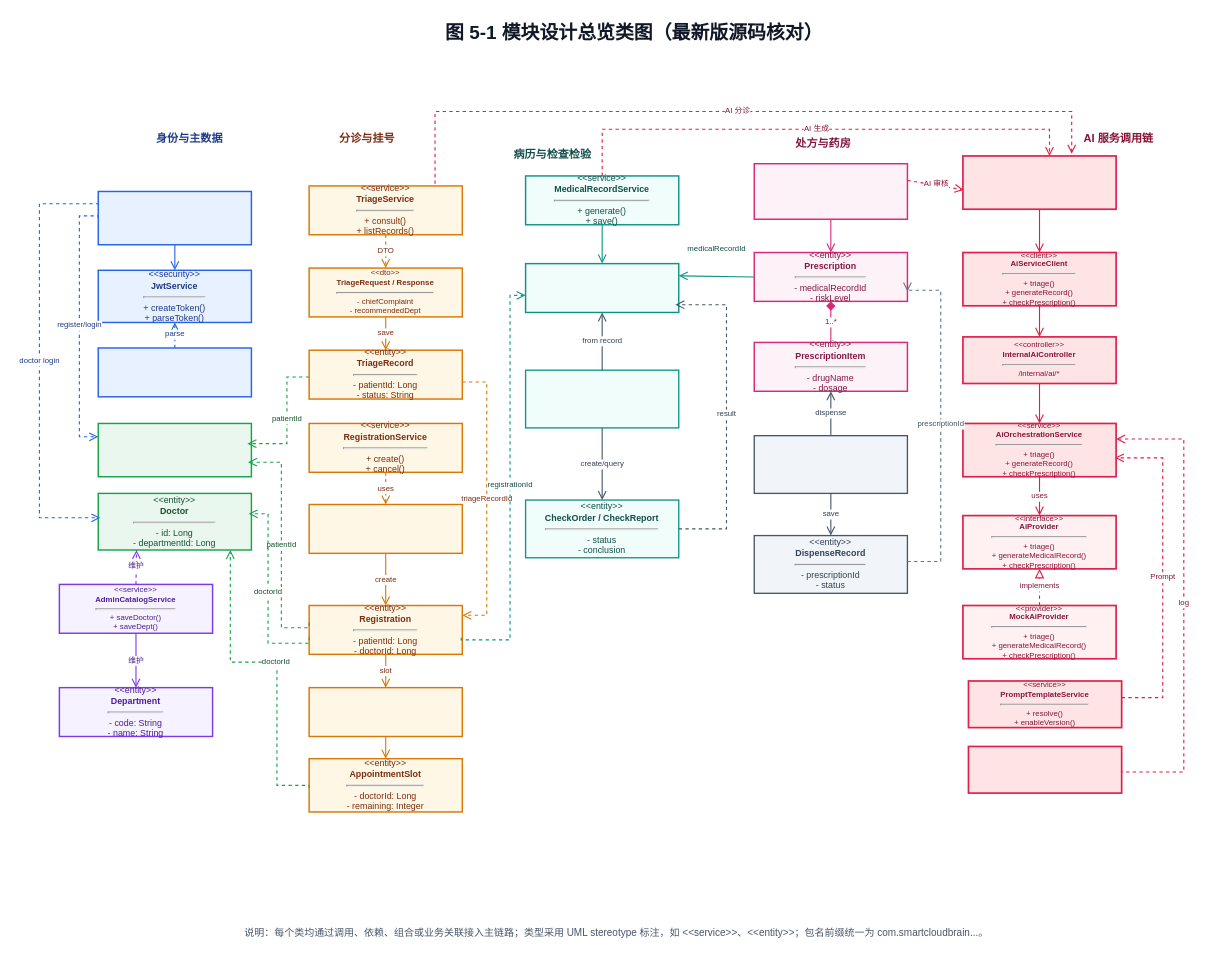
The diagram is 1213 pixels wide and 972 high, and some of its shapes have lost their labels. Here are the shapes that lost their labels. From the top down, the box of each, then its label:
(753, 163, 908, 219): <<service>> PrescriptionService + check() + create()
(962, 155, 1116, 210): <<client>> AiGatewayService + triage() + generateRecord() + checkRx()
(97, 190, 252, 245): <<service>> AuthService + register() + login()
(524, 262, 679, 313): <<entity>> MedicalRecord - registrationId - aiGenerated
(97, 347, 252, 397): <<security>> CurrentUserService + currentUserId() + currentRole()
(524, 369, 679, 428): <<service>> CheckOrderService + createOrder() + listOrders()
(97, 422, 252, 477): <<entity>> Patient - id: Long - phone: String
(753, 434, 908, 494): <<service>> PharmacyService + listPending() + dispense()
(308, 503, 463, 554): <<dto>> CreateRegistrationRequest - doctorId - appointmentSlotId
(308, 686, 463, 737): <<repository>> AppointmentSlotRepository + findAvailable() + decreaseCapacity()
(967, 745, 1122, 793): <<service>> AiTaskLogService + recordSuccess() + recordFailure()
